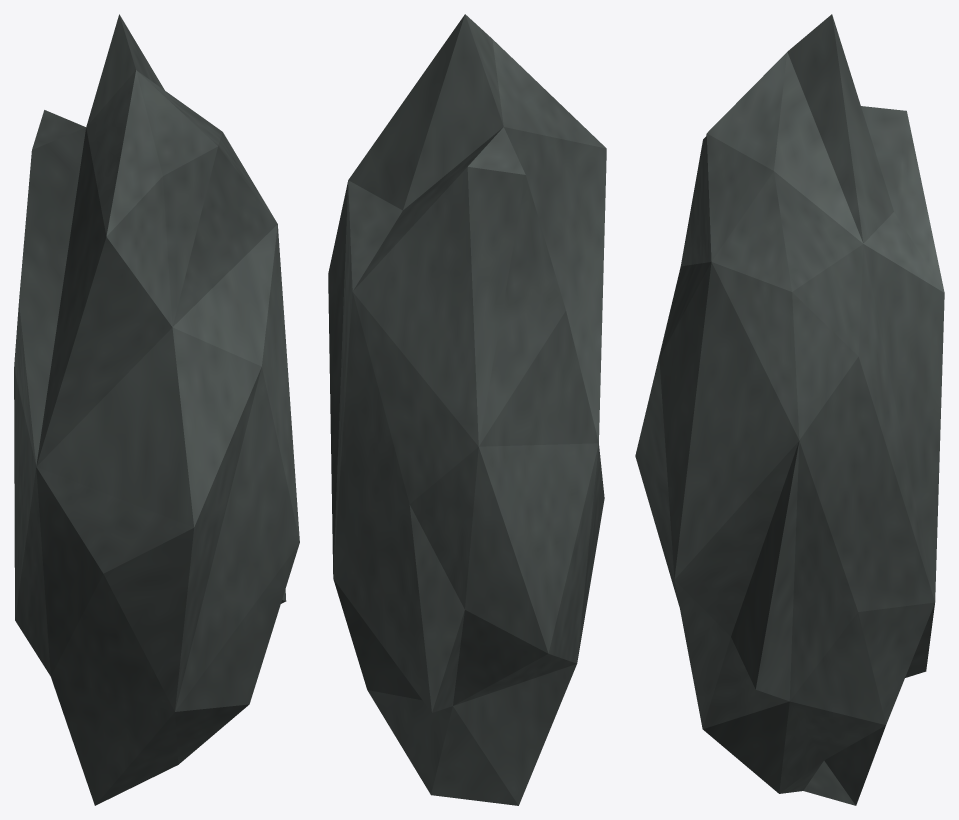
File: rocks.sea_stack.lod2.glb
3 views of the same model, side by side, from view 1: azimuth 30°, elevation 25°; view 2: azimuth 150°, elevation 25°; view 3: azimuth 270°, elevation 25° (orthographic). The views are drawn at different scales.
Parts seen in each view (by area): view 1: Stack; view 2: Stack; view 3: Stack.
Part boxes in pixels (x1=…): Stack: x1=14, y1=14, x2=299, y2=805; Stack: x1=328, y1=14, x2=606, y2=805; Stack: x1=635, y1=14, x2=944, y2=805.
Size of the model in its own units: 4.91 by 14.79 by 5.21.
1 material, 1 textured.
